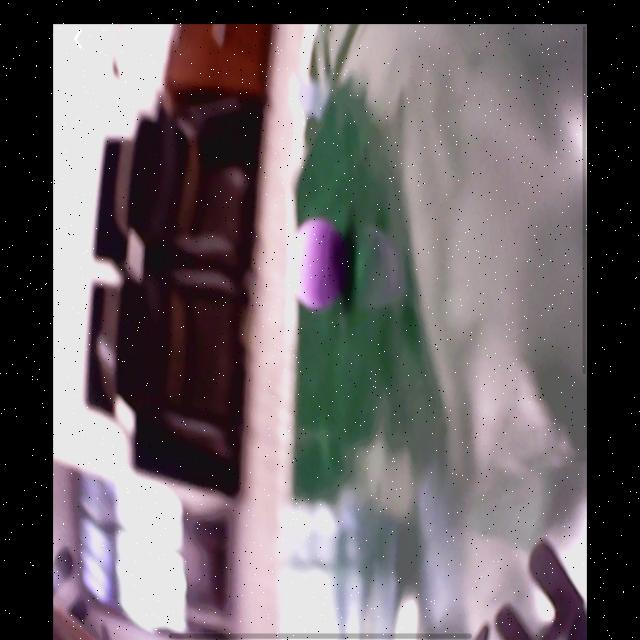ball: (283, 218, 346, 311)
